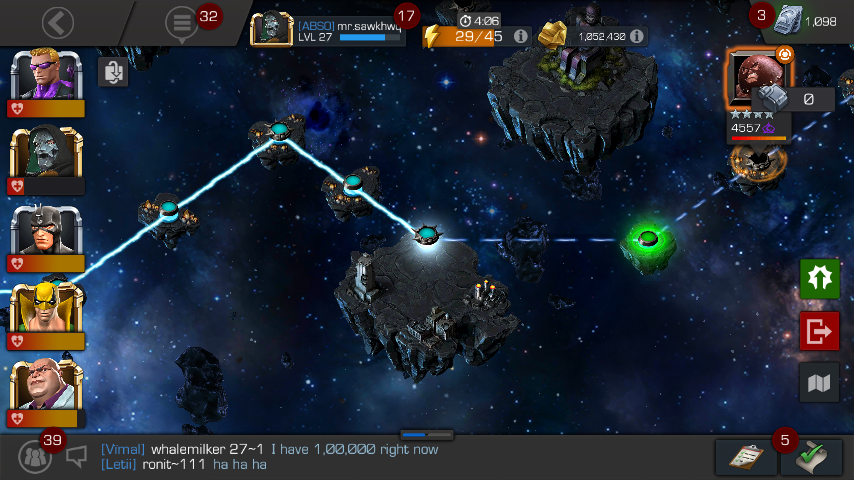green: (638, 231, 658, 247)
